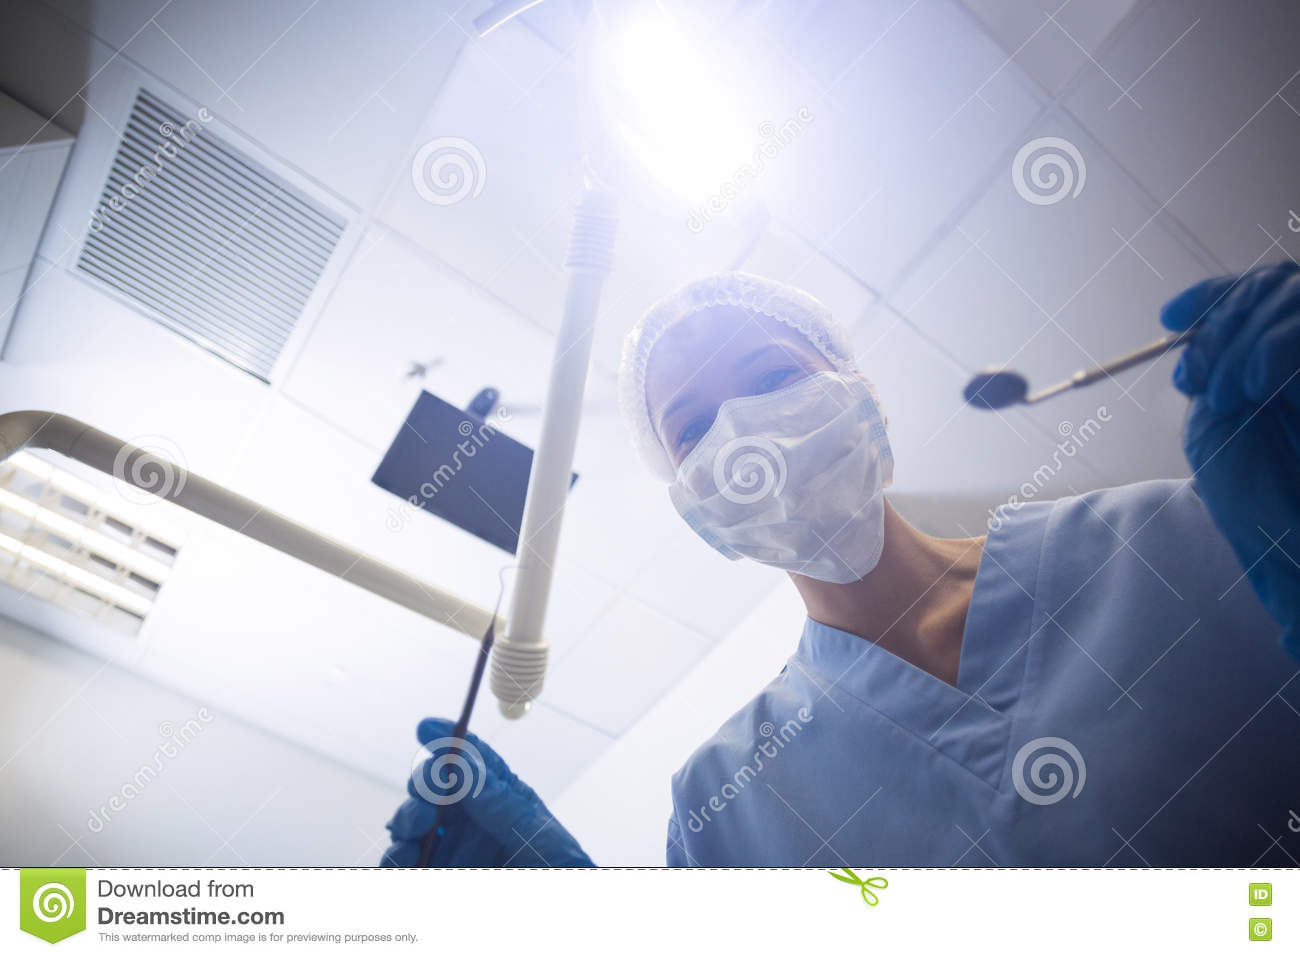mask: (663, 381, 913, 574)
